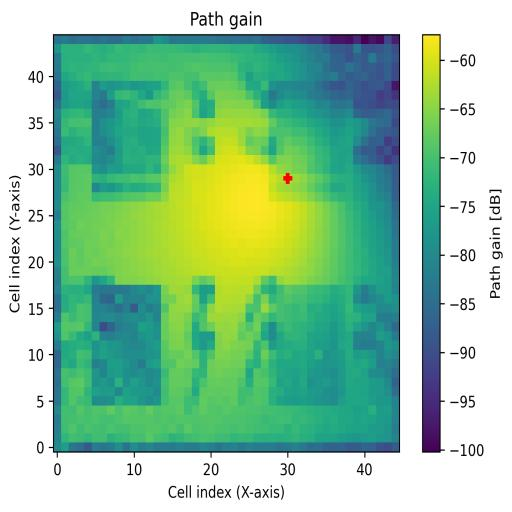Concrete: (268, 82, 354, 202)
Glass: (92, 81, 170, 201)
Metal: (268, 285, 344, 405)
Wood: (92, 284, 162, 406)
